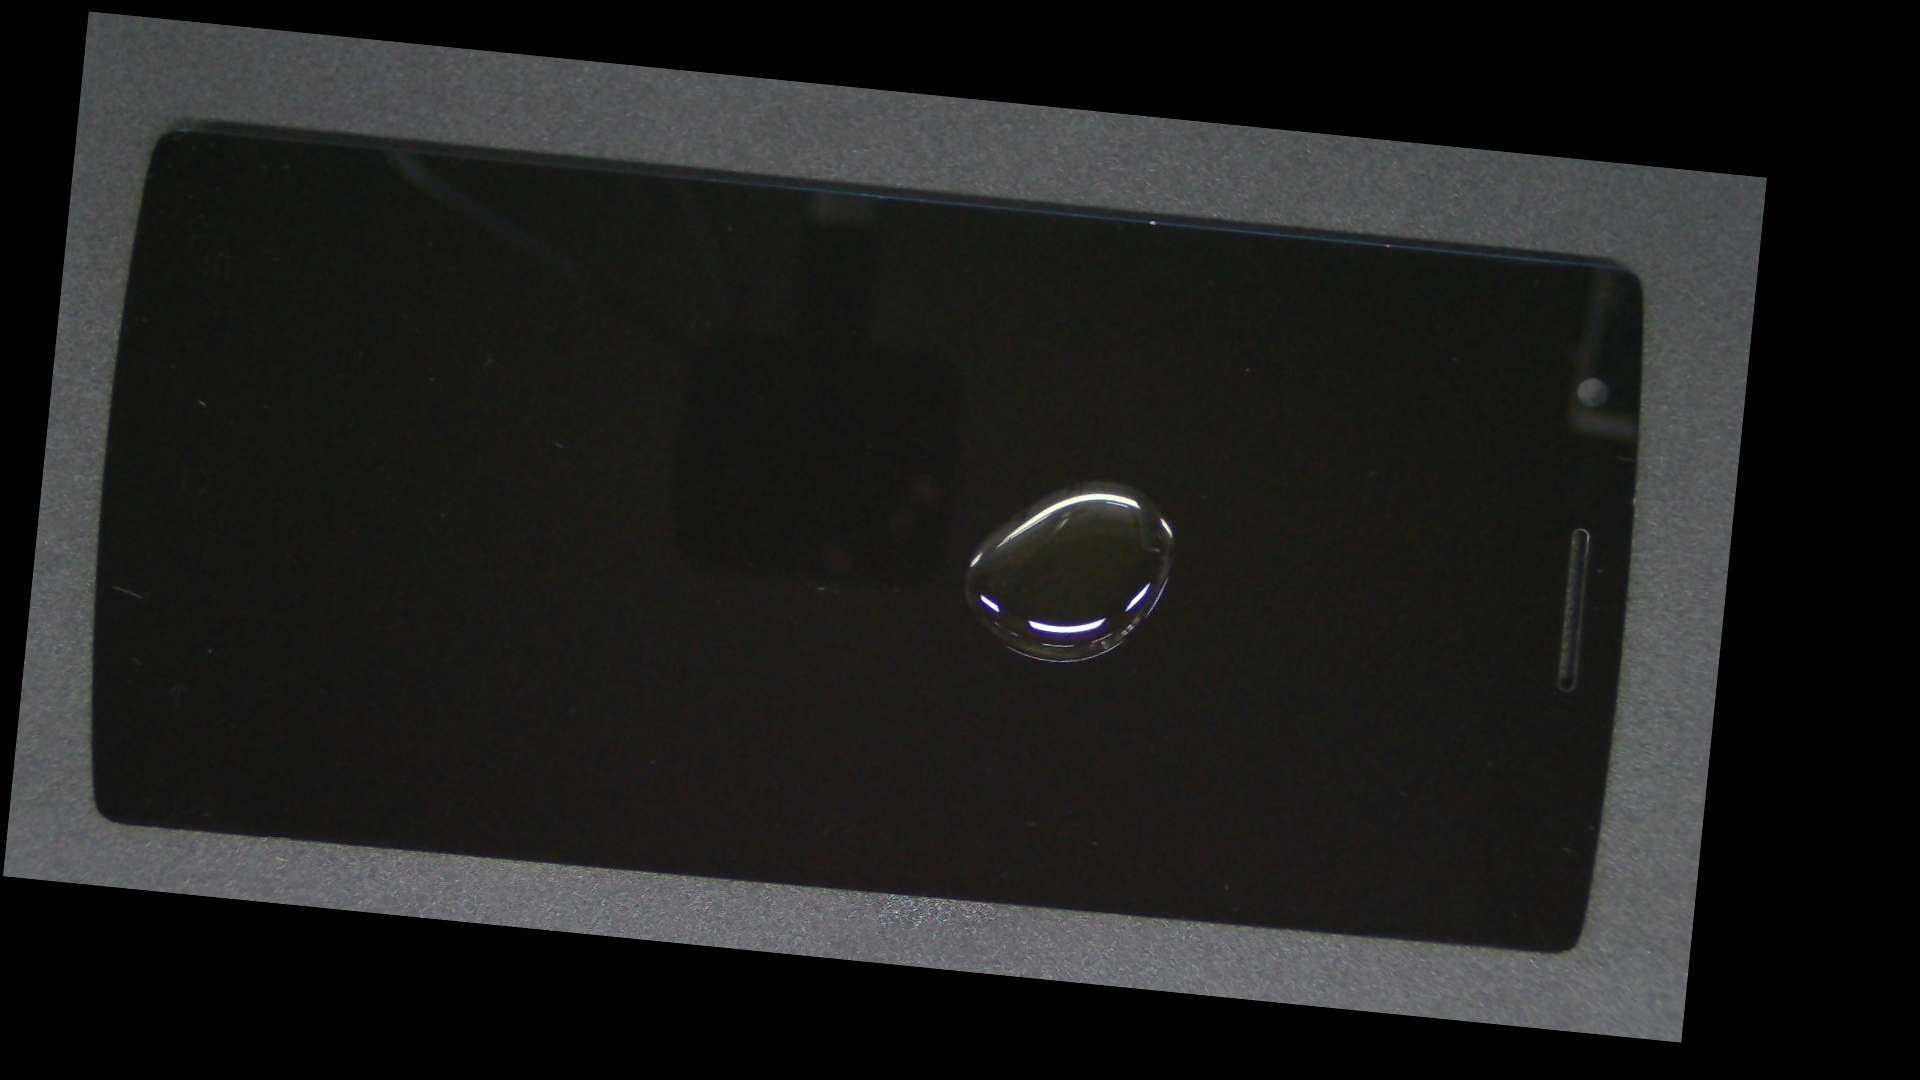oil: (558, 245, 1638, 713)
